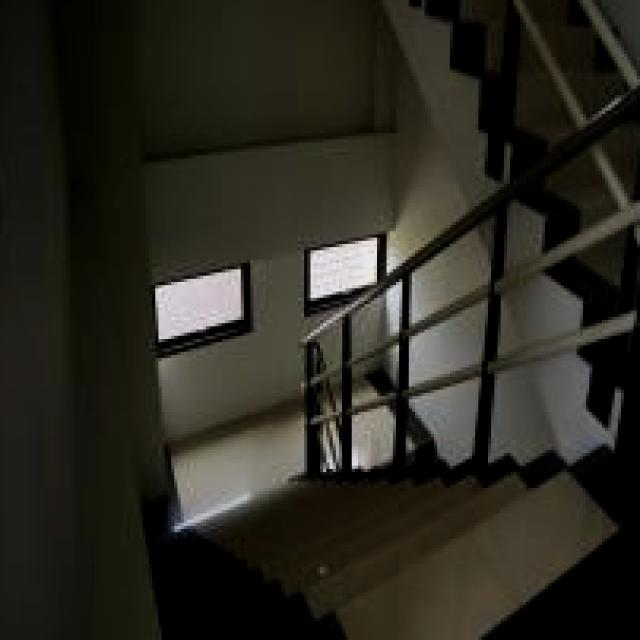downstair: (210, 492, 600, 640)
